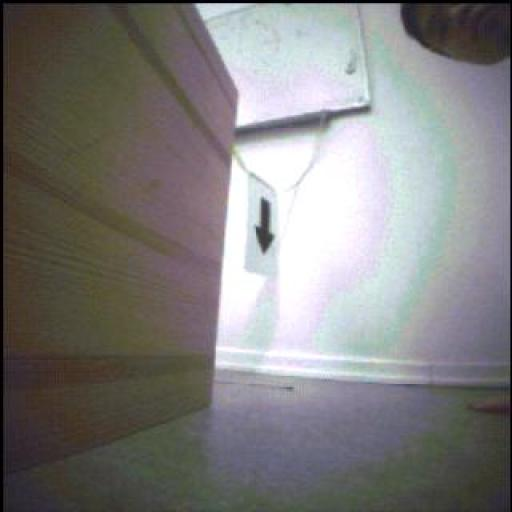arrow: (256, 199, 275, 254)
